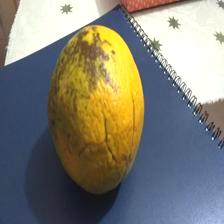Orange Rotten: (41, 16, 150, 202)
